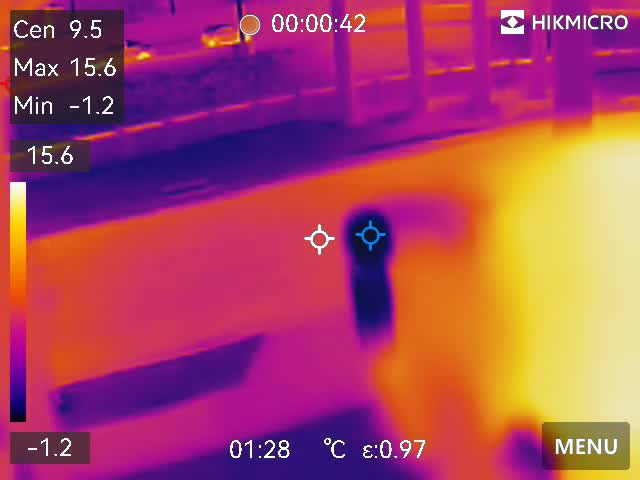vehicle: (197, 21, 266, 50)
